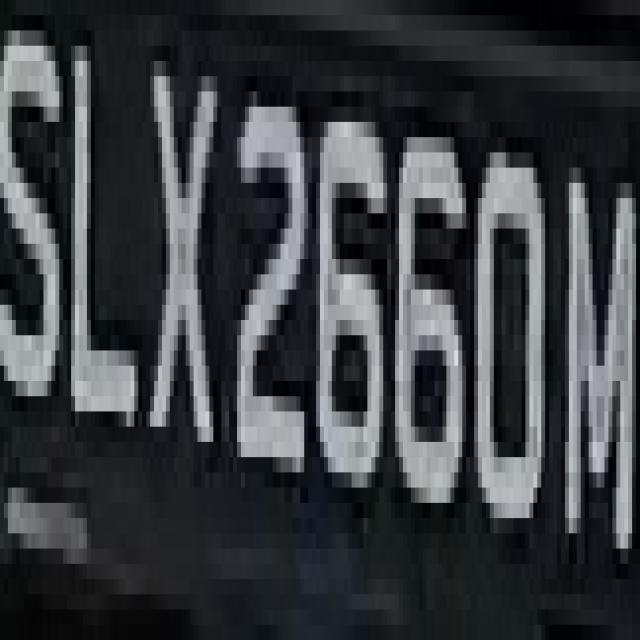0: (478, 91, 553, 548)
2: (225, 61, 308, 503)
6: (312, 61, 391, 533), (395, 107, 458, 533)
L: (67, 30, 142, 503)
M: (557, 137, 632, 549)
S: (8, 15, 63, 427)
X: (142, 45, 229, 488)
